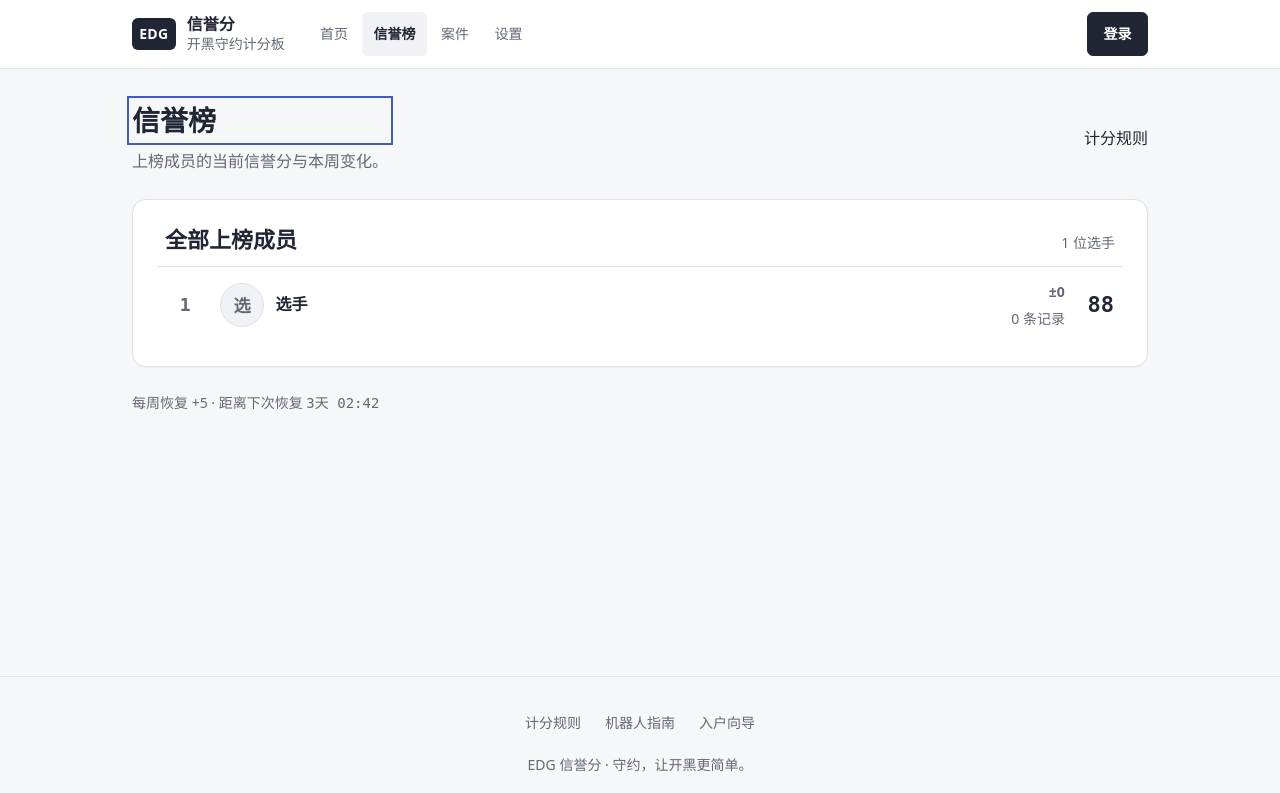
Scenario: /players/:id › opens from the board as its own address; 返回 goes back to the lobby
The width and height of the screenshot is (1280, 793).
Click the button with aria-label "第 1 名 选手，88 分" at x=242, y=305, box top-left (157, 267), bottom-right (1123, 342)
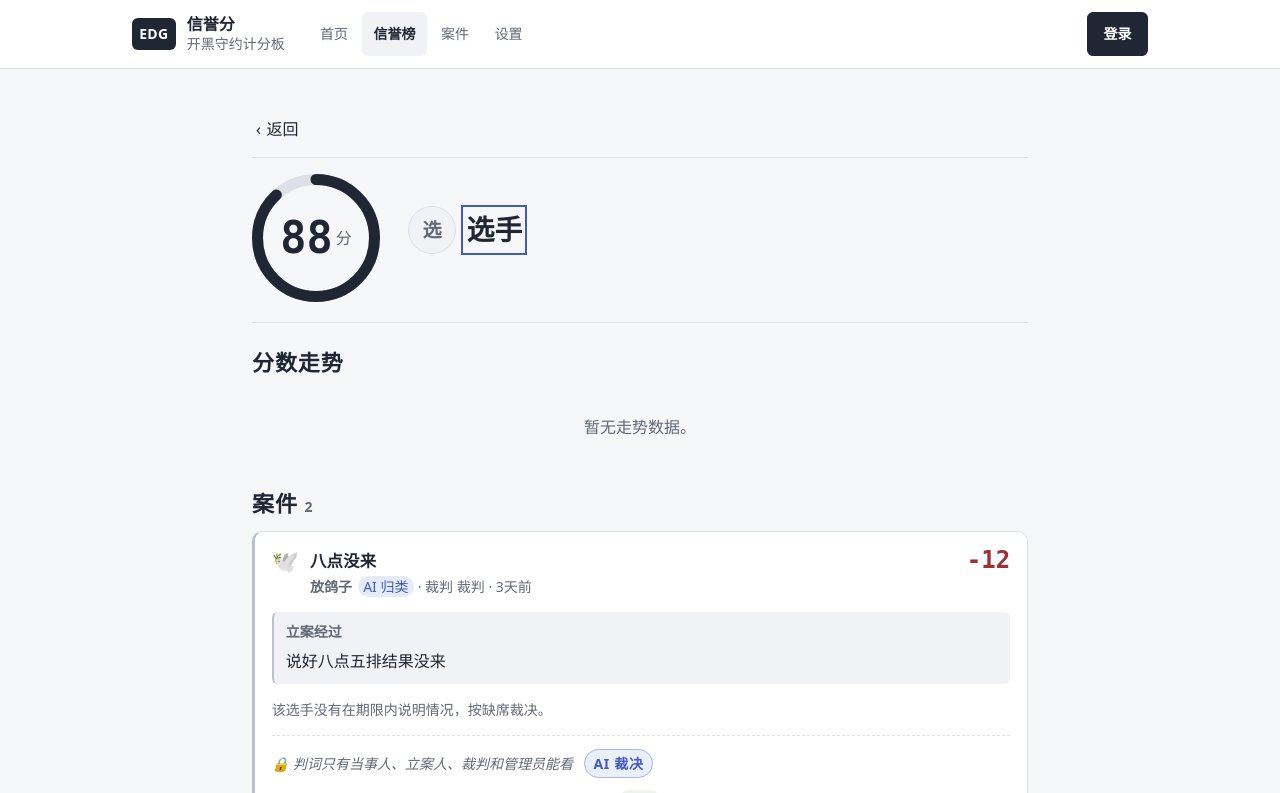
Check: the heading "选手" is shown, box top-left (466, 210), bottom-right (522, 250)
Click the button "‹ 返回" at x=281, y=129, box top-left (252, 107), bottom-right (311, 151)
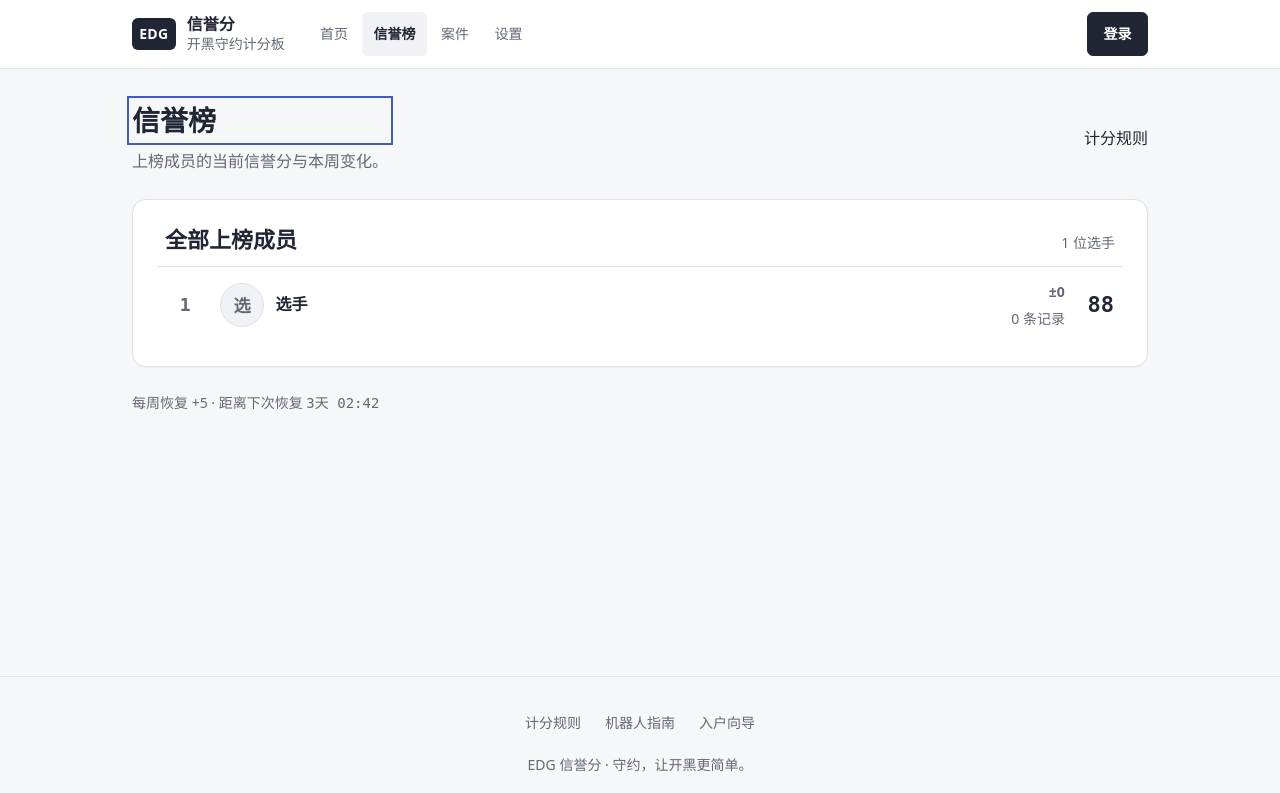
Check: the button with aria-label "第 1 名 选手，88 分" is shown, box top-left (157, 267), bottom-right (1123, 342)
